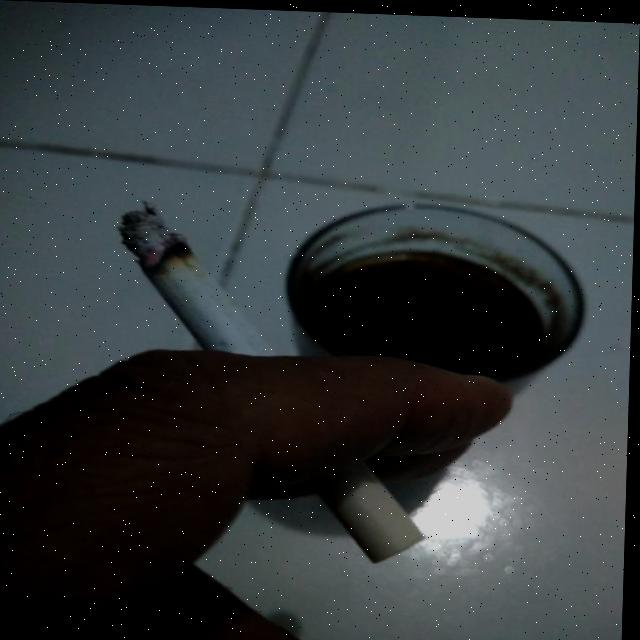cigarette: (111, 206, 435, 565)
